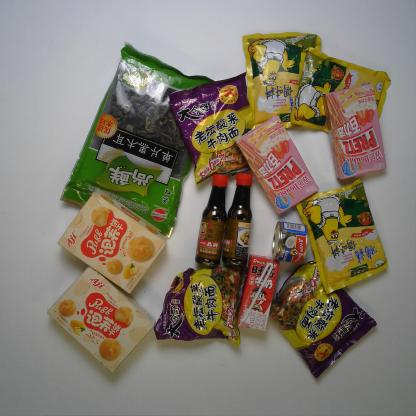Canned Food: (269, 221, 312, 268)
Dessert: (44, 261, 158, 374), (56, 186, 169, 298), (229, 110, 320, 214), (325, 78, 392, 179)
Dried Food: (54, 41, 224, 239)
Instant Noodles: (264, 258, 377, 380), (166, 71, 277, 183), (154, 259, 244, 350)
Milk: (229, 255, 280, 333)
Seasoner: (294, 170, 388, 296), (290, 38, 392, 133), (244, 21, 327, 135), (193, 169, 231, 269), (221, 168, 257, 268)
